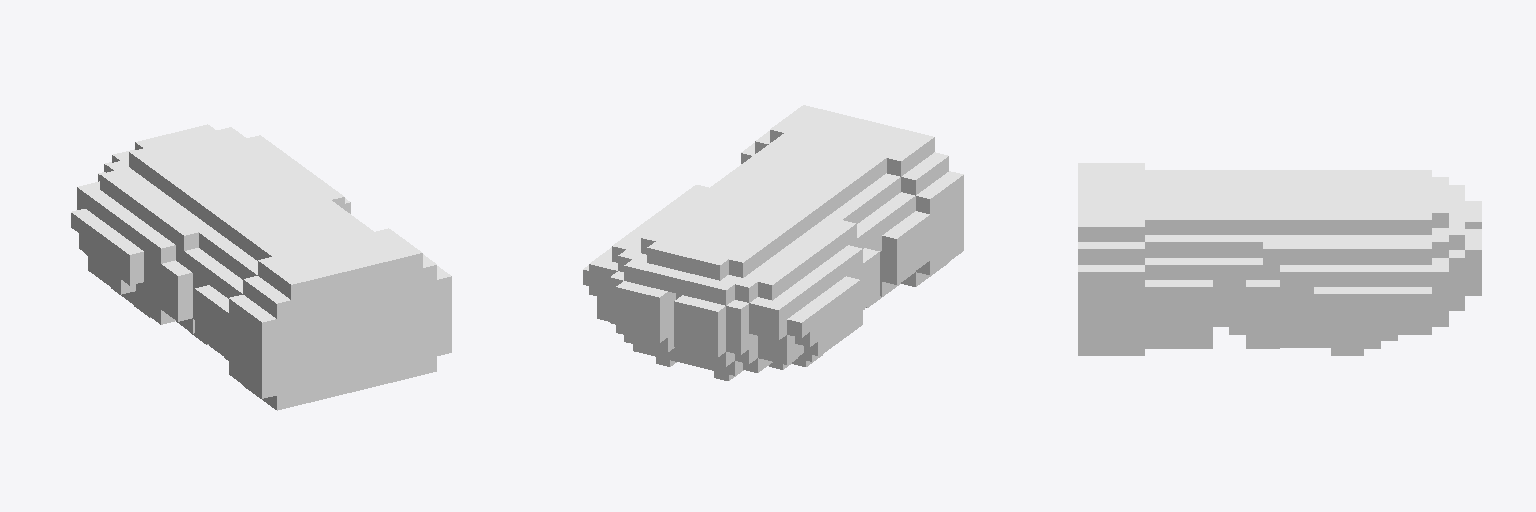
File: catpaw.obj
The picture shows the model from 3 angles: view 1: azimuth 30°, elevation 25°; view 2: azimuth 150°, elevation 25°; view 3: azimuth 270°, elevation 25°; orthographic projection.
Bounding box in the file's own units: 15 × 8 × 24.